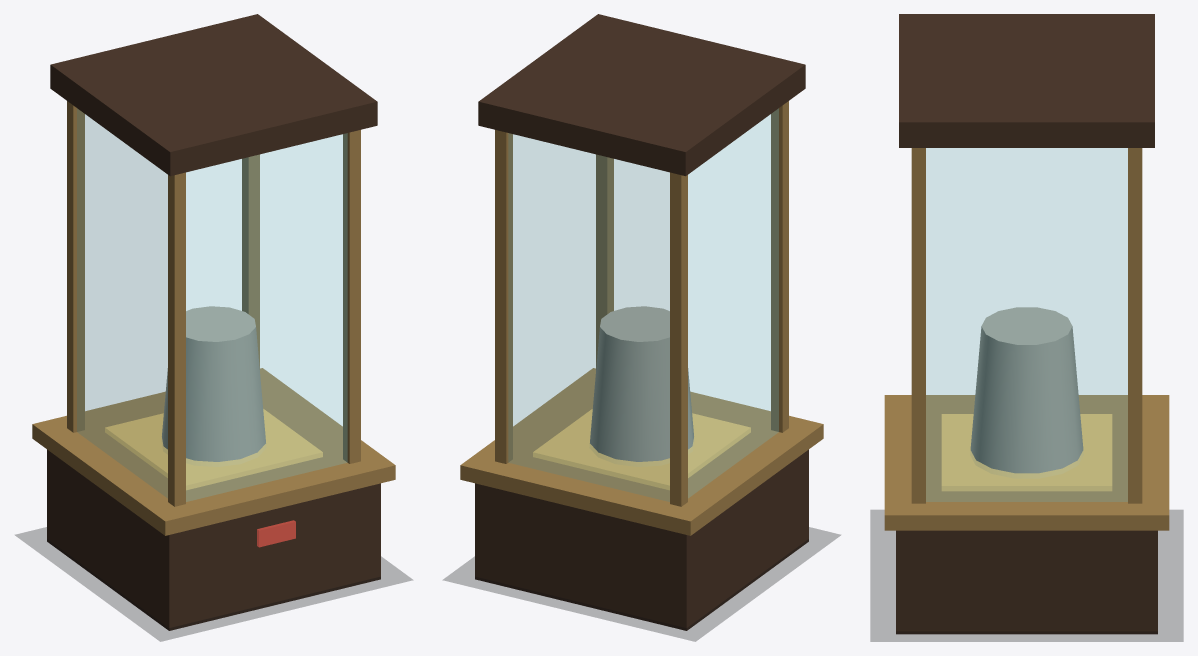
Rendered from hp_room_rm_museum_specimen_case.glb.
The picture shows the model from 3 angles, left to right: view 1: azimuth 30°, elevation 25°; view 2: azimuth 150°, elevation 25°; view 3: azimuth 270°, elevation 25°; orthographic projection. The views are drawn at different scales.
Parts seen in each view (by area): view 1: glass_shell, case_cap, case_plinth, plinth_trim, inner_pedestal, corner_rib_-0.38_0.38, contact_shadow, corner_rib_0.38_0.38, base_uplight, corner_rib_-0.38_-0.38, corner_rib_0.38_-0.38, vacancy_tag; view 2: glass_shell, case_cap, case_plinth, plinth_trim, inner_pedestal, corner_rib_-0.38_-0.38, contact_shadow, corner_rib_0.38_-0.38, base_uplight, corner_rib_-0.38_0.38, corner_rib_0.38_0.38; view 3: glass_shell, case_cap, case_plinth, plinth_trim, inner_pedestal, contact_shadow, base_uplight, corner_rib_0.38_-0.38, corner_rib_0.38_0.38.
Boxes of the visible parts, left/top/right/bottom form: glass_shell: left=77, top=108, right=347, bottom=501; case_cap: left=50, top=14, right=377, bottom=176; case_plinth: left=47, top=449, right=380, bottom=630; plinth_trim: left=32, top=368, right=395, bottom=535; inner_pedestal: left=162, top=306, right=265, bottom=466; corner_rib_-0.38_0.38: left=168, top=172, right=185, bottom=506; contact_shadow: left=15, top=527, right=412, bottom=641; corner_rib_0.38_0.38: left=343, top=130, right=360, bottom=463; base_uplight: left=105, top=409, right=322, bottom=490; corner_rib_-0.38_-0.38: left=67, top=101, right=84, bottom=432; corner_rib_0.38_-0.38: left=242, top=154, right=259, bottom=369; vacancy_tag: left=257, top=520, right=295, bottom=547; glass_shell: left=508, top=108, right=778, bottom=501; case_cap: left=478, top=14, right=805, bottom=176; case_plinth: left=475, top=449, right=808, bottom=630; plinth_trim: left=460, top=368, right=823, bottom=535; inner_pedestal: left=590, top=306, right=693, bottom=466; corner_rib_-0.38_-0.38: left=670, top=172, right=687, bottom=506; contact_shadow: left=443, top=527, right=840, bottom=641; corner_rib_0.38_-0.38: left=495, top=130, right=512, bottom=463; base_uplight: left=533, top=409, right=750, bottom=490; corner_rib_-0.38_0.38: left=771, top=101, right=788, bottom=432; corner_rib_0.38_0.38: left=596, top=154, right=613, bottom=369; glass_shell: left=926, top=148, right=1127, bottom=501; case_cap: left=899, top=14, right=1154, bottom=147; case_plinth: left=896, top=530, right=1157, bottom=634; plinth_trim: left=884, top=395, right=1169, bottom=530; inner_pedestal: left=970, top=307, right=1083, bottom=477; contact_shadow: left=870, top=510, right=1183, bottom=641; base_uplight: left=941, top=414, right=1112, bottom=491; corner_rib_0.38_-0.38: left=1128, top=148, right=1142, bottom=503; corner_rib_0.38_0.38: left=911, top=148, right=925, bottom=503.
Size of the model in its own units: 1.1 by 1.98 by 1.1.
